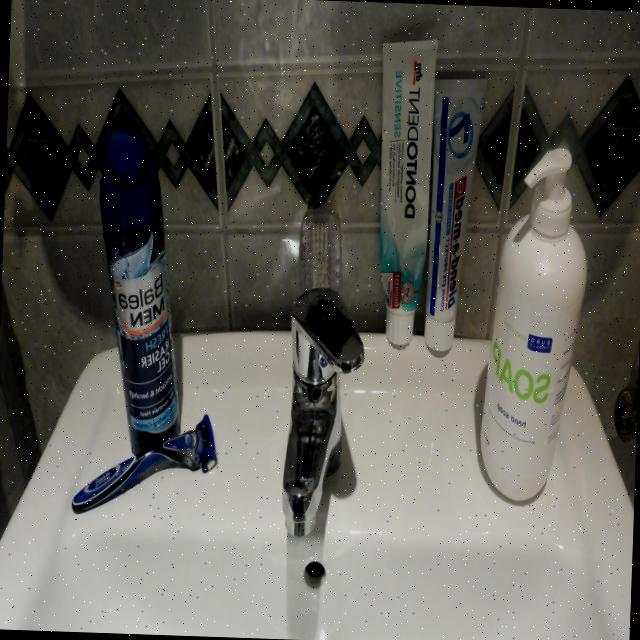Toothpaste: (425, 32, 500, 360), (372, 11, 442, 352)
